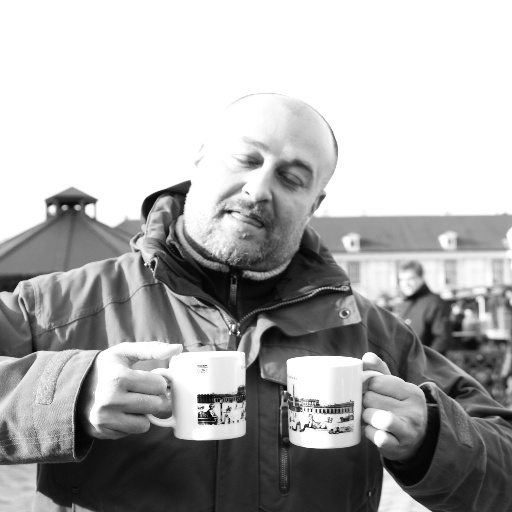hand: (74, 337, 184, 449), (360, 351, 429, 460), (213, 414, 220, 418)
